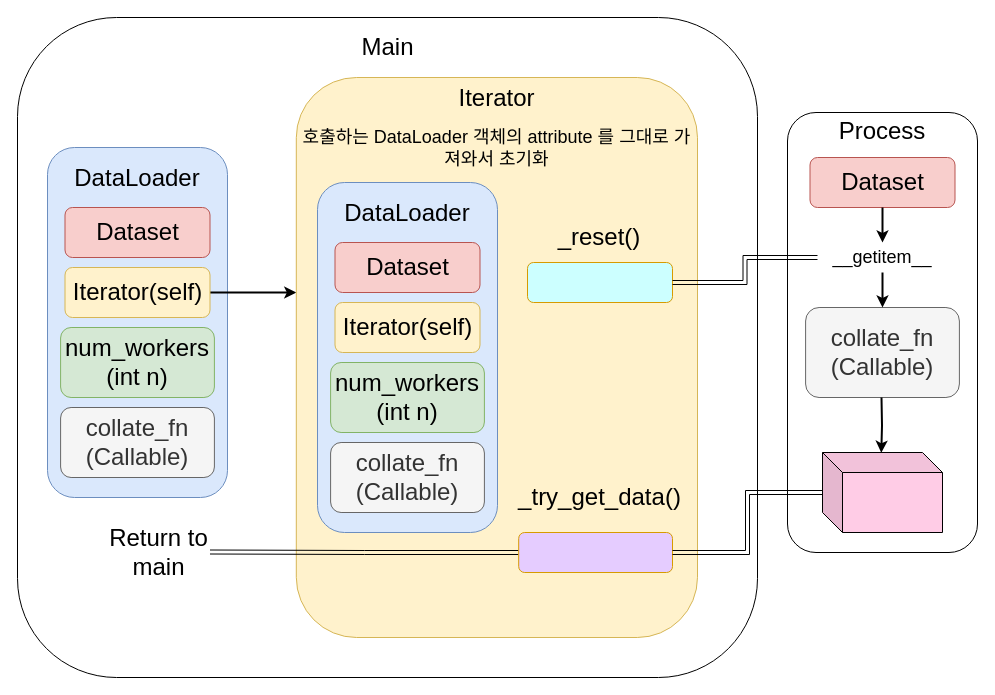
The diagram is 995 pixels wide and 695 high, and some of its shapes have lost their labels. The centre of each missing label's shape, as x and y in pixels:
"Data" belongs at (882,492).
"Data Queue" belongs at (595,552).
"Index Queue" belongs at (599,282).
